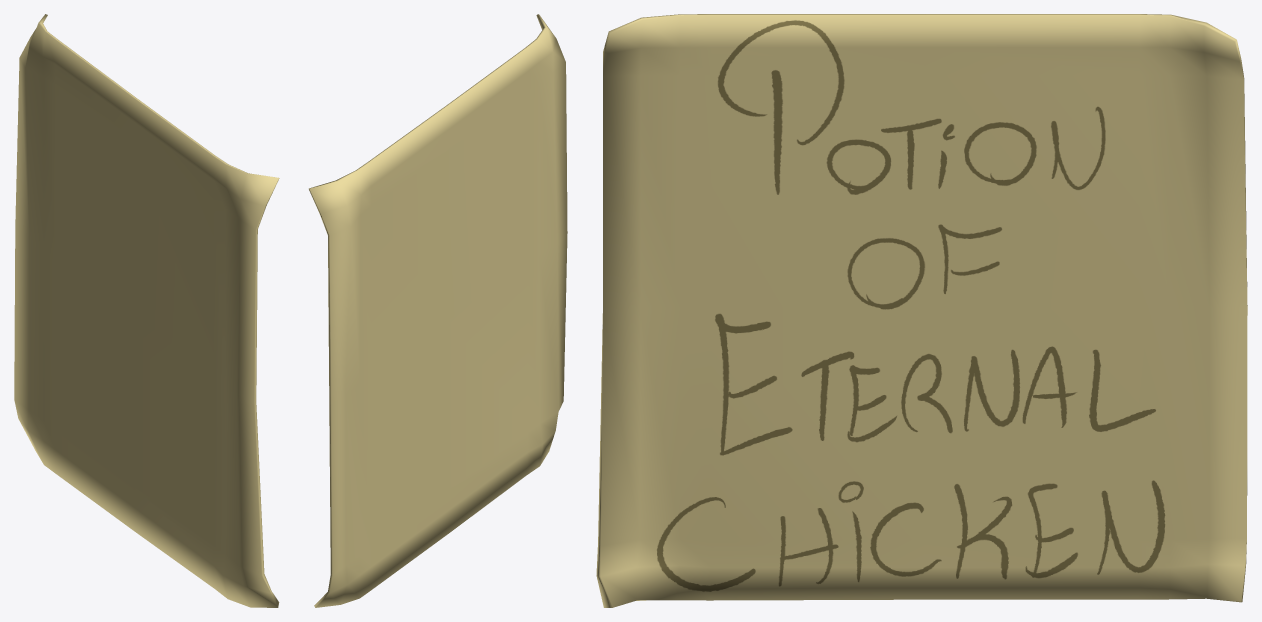
The model's file is papelPotionOfEternalChicken.fbx.
3 views of the same model, side by side, from view 1: azimuth 30°, elevation 25°; view 2: azimuth 150°, elevation 25°; view 3: azimuth 270°, elevation 25° (orthographic). The views are drawn at different scales.
Visible parts, largest first — view 1: Papel; view 2: Papel; view 3: Papel.
Part boxes in pixels (x1,y1,x2,y2): Papel: (14,14,279,607); Papel: (309,14,567,607); Papel: (596,14,1247,607).
Size of the model in its own units: 16.28 by 200 by 202.
